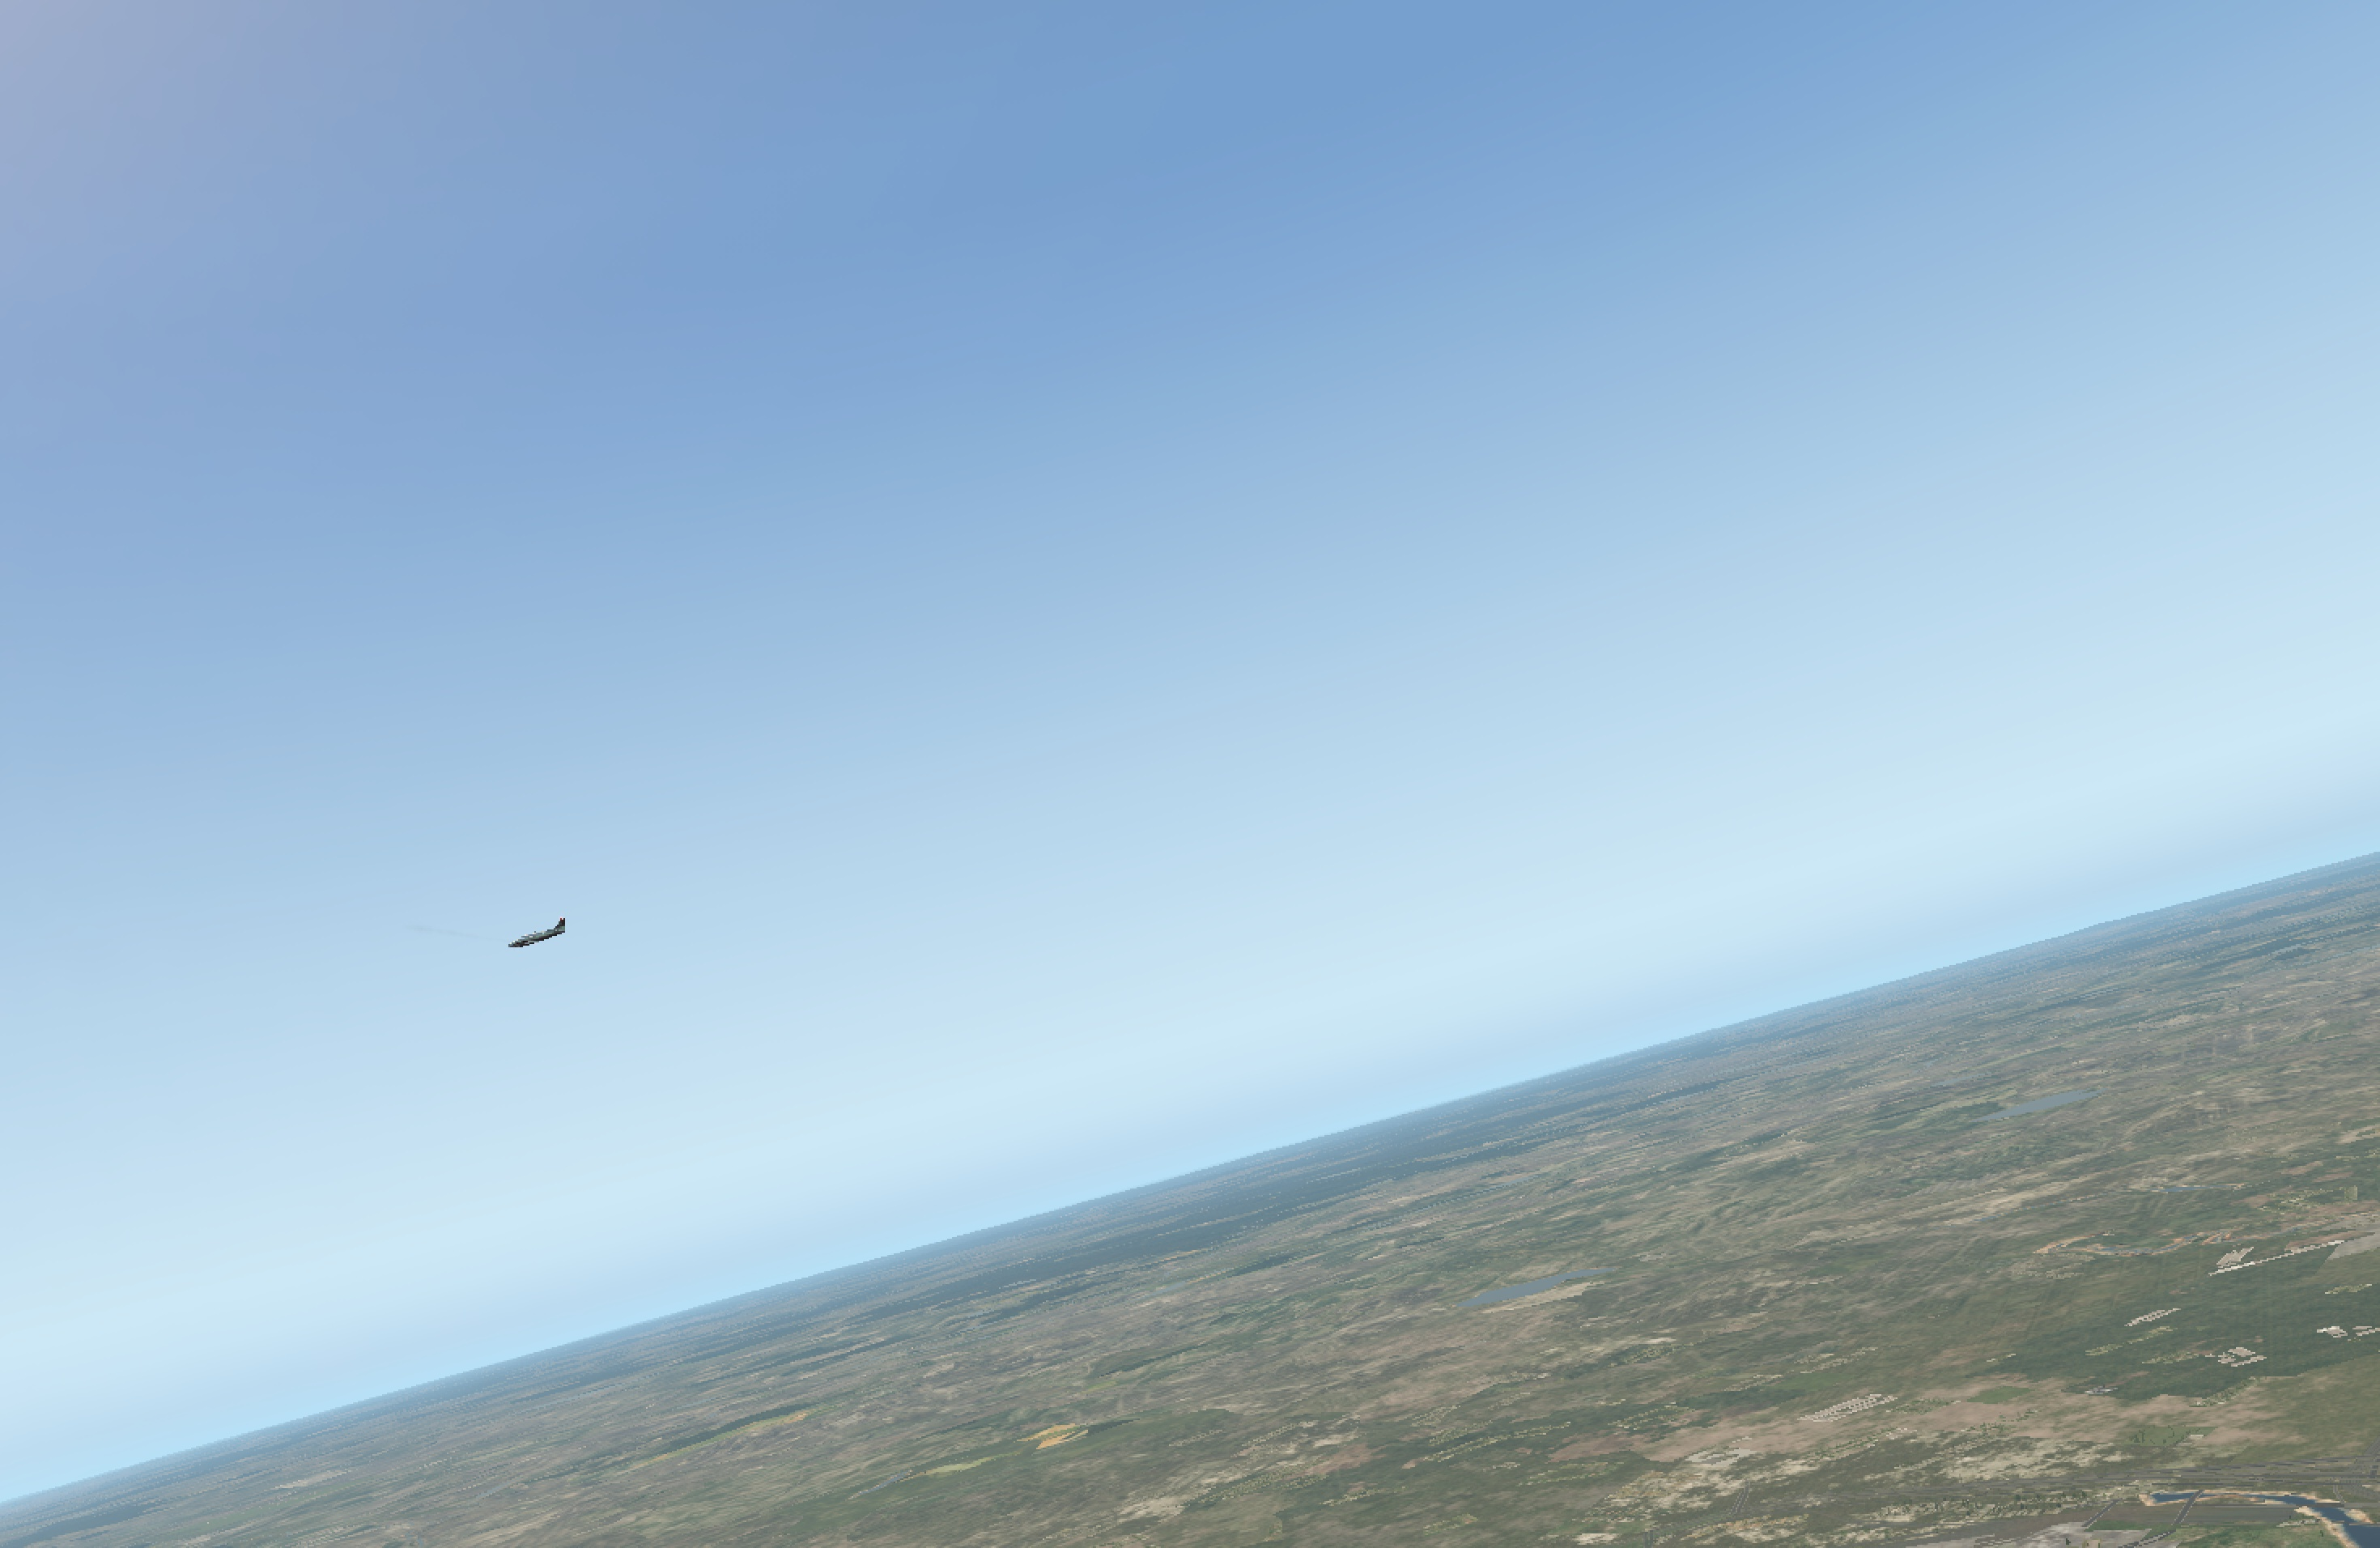aircraft: (487, 928, 569, 960)
